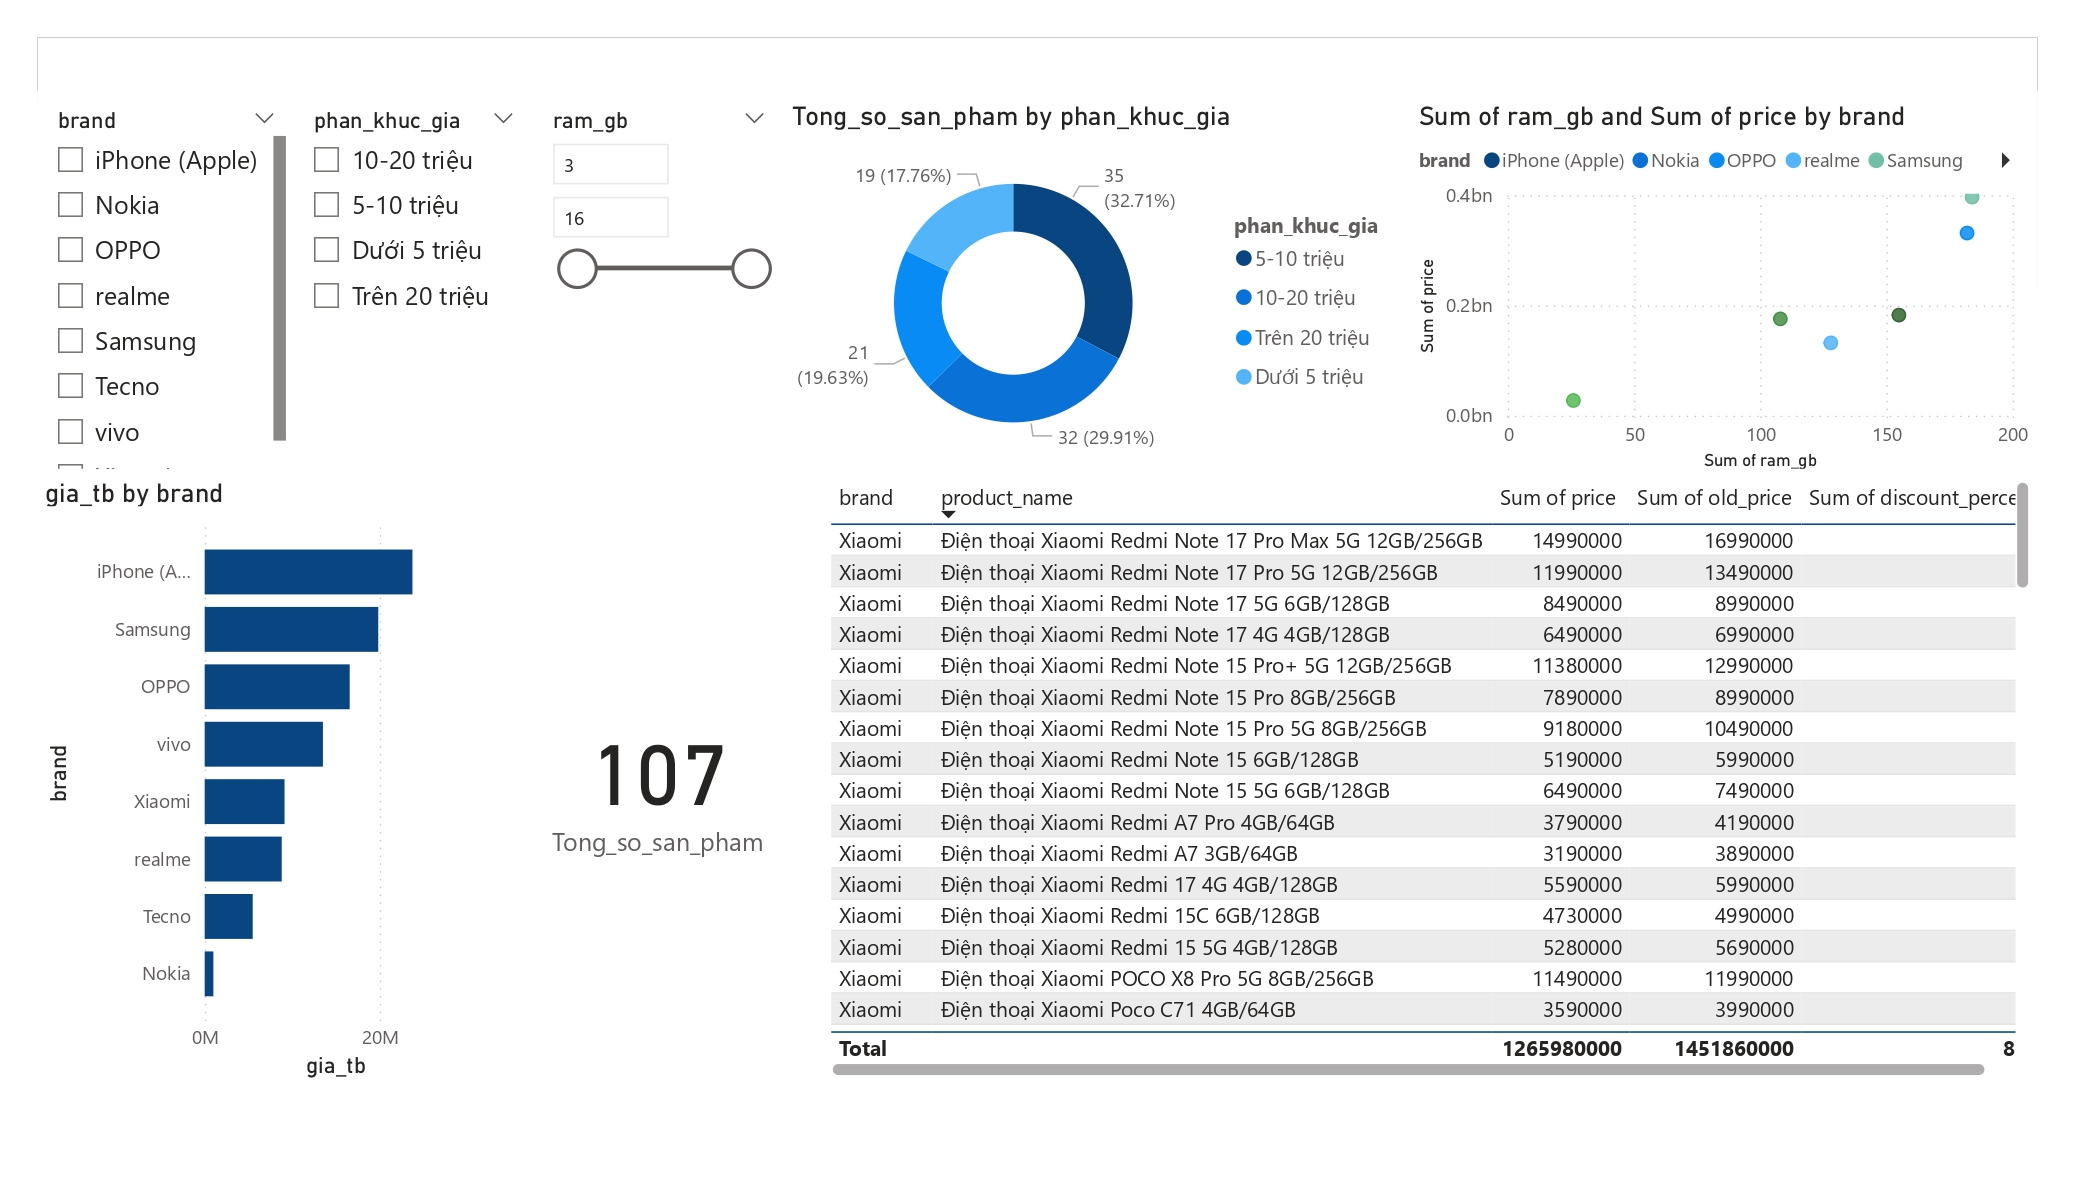

This screenshot's page, from the dashboard's own definition file:
{"tool":"powerbi","page":{"name":"Page 1","canvas":[1280,720],"ordinal":0},"visuals":[{"type":"card","fields":{"Values":["_Measures.Tong_so_san_pham"]},"box":[291.5,280.6,210.4,390.4],"z":0},{"type":"clusteredBarChart","fields":{"Category":["phones.brand"],"Y":["_Measures.gia_tb"]},"box":[0,280.6,291.5,390.4],"z":1000},{"type":"donutChart","fields":{"Category":["phones.phan_khuc_gia"],"Y":["_Measures.Tong_so_san_pham"]},"box":[478.3,39.7,401.4,240.8],"z":2000},{"type":"scatterChart","fields":{"X":["Sum(phones.ram_gb)"],"Y":["Sum(phones.price)"],"Series":["phones.brand"]},"box":[878.9,39.7,400.6,240.8],"z":3000},{"type":"tableEx","fields":{"Values":["phones.brand","phones.product_name","Sum(phones.price)","Sum(phones.old_price)","Sum(phones.discount_percent)"]},"box":[502,280.6,778.3,390.4],"z":4000},{"type":"slicer","fields":{"Values":["phones.brand"]},"box":[0,39.7,163.9,240.8],"z":4001},{"type":"slicer","fields":{"Values":["phones.phan_khuc_gia"]},"box":[163.9,39.7,153,240.8],"z":4002},{"type":"slicer","fields":{"Values":["phones.ram_gb"]},"box":[316.9,39.7,161.4,240.8],"z":4003}]}

Visuals, with their boxes on the page's 1280x720 design canvas (x1, y1, x2, y2). These are canvas units, not pixel positions in the 2075x1200 screenshot, which may show the page scaled, cropped or inside an application window:
card - _Measures.Tong_so_san_pham: 292 281 502 671
clusteredBarChart - phones.brand x _Measures.gia_tb: 0 281 292 671
donutChart - phones.phan_khuc_gia x _Measures.Tong_so_san_pham: 478 40 880 280
scatterChart - Sum(phones.ram_gb) x Sum(phones.price): 879 40 1280 280
tableEx - phones.brand x phones.product_name: 502 281 1280 671
slicer - phones.brand: 0 40 164 280
slicer - phones.phan_khuc_gia: 164 40 317 280
slicer - phones.ram_gb: 317 40 478 280
